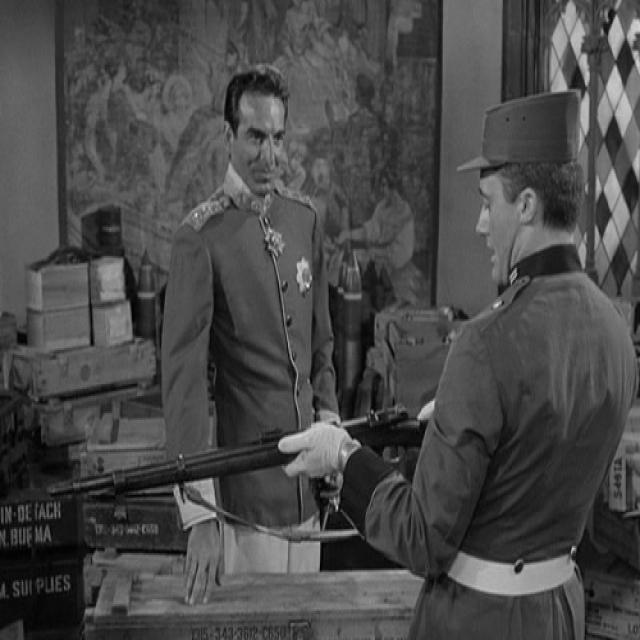rifle: (41, 401, 432, 508)
